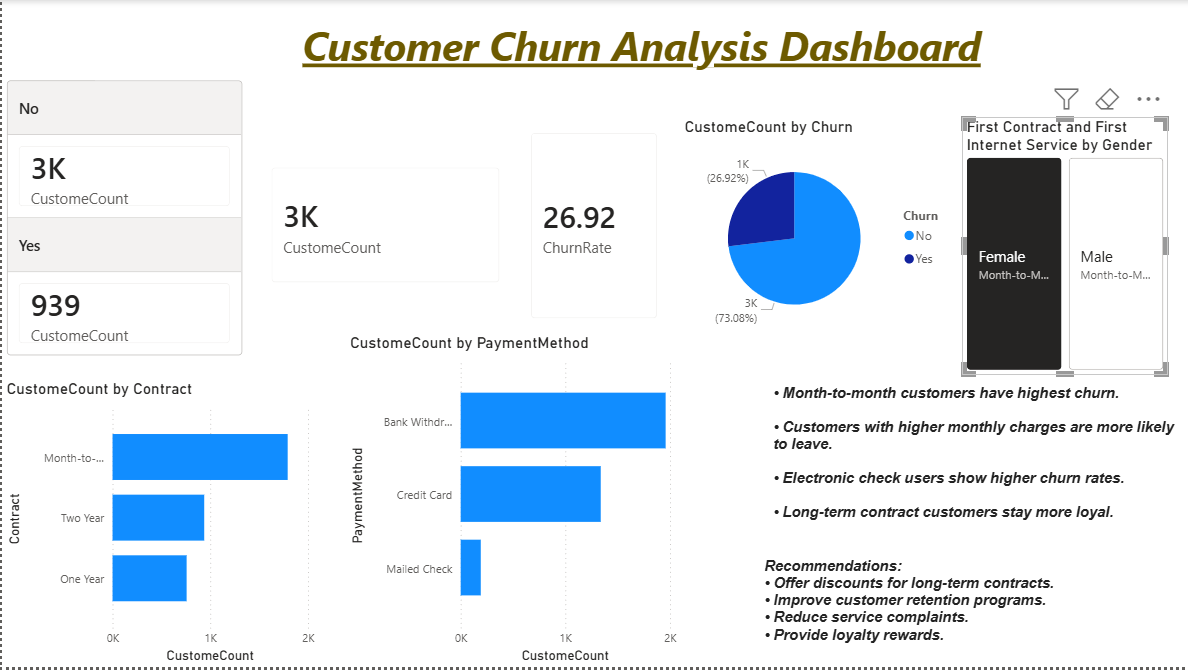

The dashboard page shown, as its layout file describes it:
{"tool":"powerbi","page":{"name":"Page 1","canvas":[1280,720],"ordinal":0},"visuals":[{"type":"cardVisual","fields":{"Data":["cleaned_churn_data.CustomeCount"]},"box":[0,0,280.1,344.9],"z":0},{"type":"cardVisual","fields":{"Data":["cleaned_churn_data.CustomeCount"],"Rows":["cleaned_churn_data.Churn"]},"box":[140.9,0,263.9,344.9],"z":1000},{"type":"cardVisual","fields":{"Data":["cleaned_churn_data.ChurnRate"]},"box":[325.5,0,170,233.2],"z":2000},{"type":"pieChart","fields":{"Category":["cleaned_churn_data.Churn"],"Y":["cleaned_churn_data.CustomeCount"]},"box":[500,14,304,346],"z":3000},{"type":"clusteredBarChart","fields":{"Category":["cleaned_churn_data.Contract"],"Y":["cleaned_churn_data.CustomeCount"]},"box":[0,354,342,366],"z":4000},{"type":"barChart","fields":{"Category":["cleaned_churn_data.PaymentMethod"],"Y":["cleaned_churn_data.CustomeCount"]},"box":[370,360,362,360],"z":5000},{"type":"advancedSlicerVisual","fields":{"Values":["cleaned_churn_data.Gender"],"Label":["Min(cleaned_churn_data.Contract)"]},"box":[828,14,222,278],"z":5001},{"type":"textbox","box":[828,308,452,184],"z":5002},{"type":"textbox","box":[818,492,462,124],"z":5003}]}

Visuals, with their boxes in screenshot pixels (x1, y1, x2, y2), scaled from the page's 1280x720 canvas onto the 1188x670 screenshot:
cardVisual - cleaned_churn_data.CustomeCount: crop(0, 0, 260, 321)
cardVisual - cleaned_churn_data.CustomeCount x cleaned_churn_data.Churn: crop(131, 0, 376, 321)
cardVisual - cleaned_churn_data.ChurnRate: crop(302, 0, 460, 217)
pieChart - cleaned_churn_data.Churn x cleaned_churn_data.CustomeCount: crop(464, 13, 746, 335)
clusteredBarChart - cleaned_churn_data.Contract x cleaned_churn_data.CustomeCount: crop(0, 329, 317, 669)
barChart - cleaned_churn_data.PaymentMethod x cleaned_churn_data.CustomeCount: crop(343, 335, 679, 669)
advancedSlicerVisual - cleaned_churn_data.Gender x Min(cleaned_churn_data.Contract): crop(768, 13, 975, 272)
textbox: crop(768, 287, 1187, 458)
textbox: crop(759, 458, 1187, 573)
